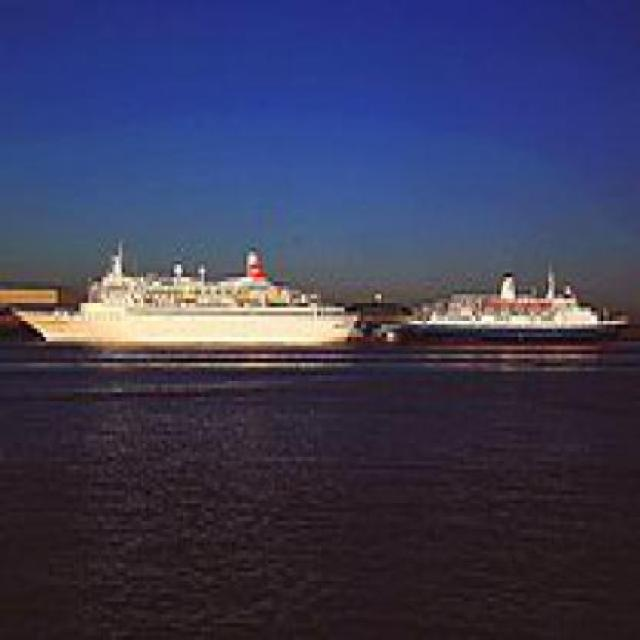cruise: (23, 231, 364, 368), (389, 227, 635, 367)
